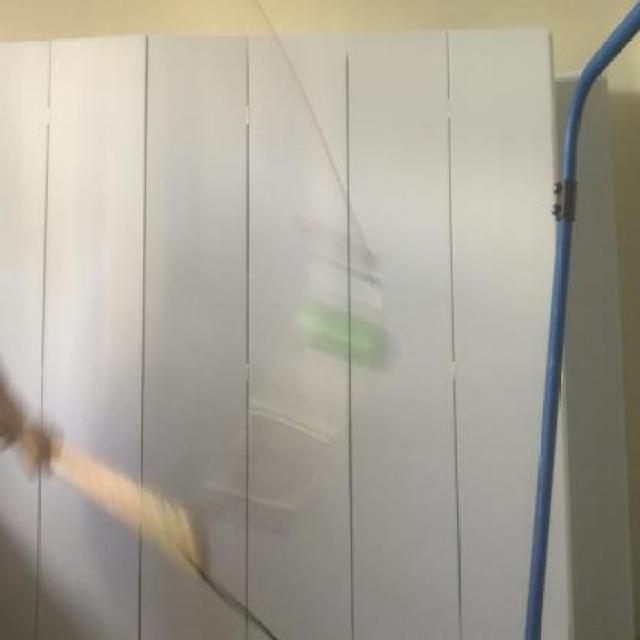baseball: (288, 286, 397, 374)
